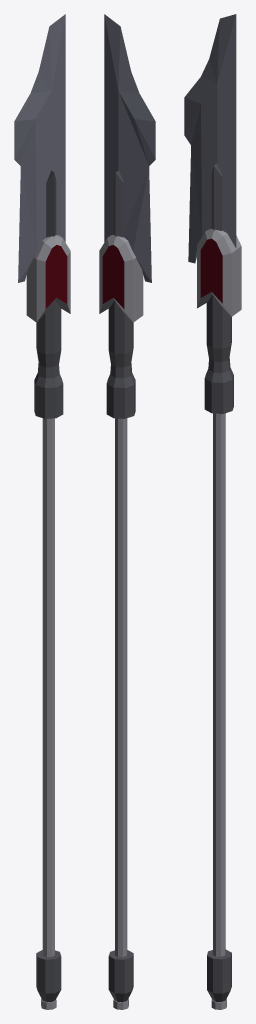
File: Lanca_B20.fbx
3 renders of one model, left to right at view 1: azimuth 30°, elevation 25°; view 2: azimuth 150°, elevation 25°; view 3: azimuth 330°, elevation 25°, orthographic.
Parts seen in each view (by area): view 1: polearm_20; view 2: polearm_20; view 3: polearm_20.
Part boxes in pixels (x1,y1,x2,y2): polearm_20: [14, 14, 70, 1009]; polearm_20: [99, 14, 155, 1009]; polearm_20: [184, 14, 241, 1009].
Bounding box in the file's own units: 11.4 × 208 × 5.87.
